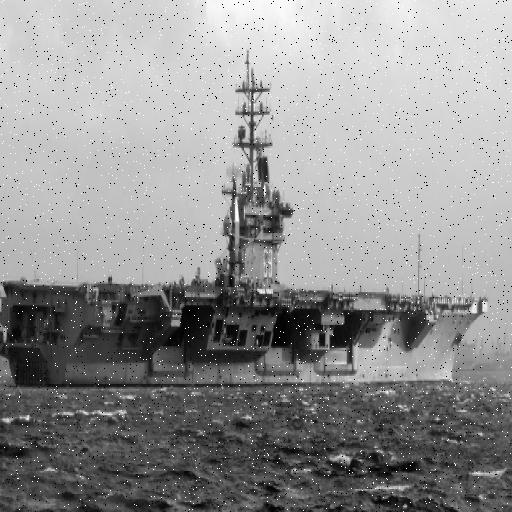Portanaves: (1, 42, 494, 395)
